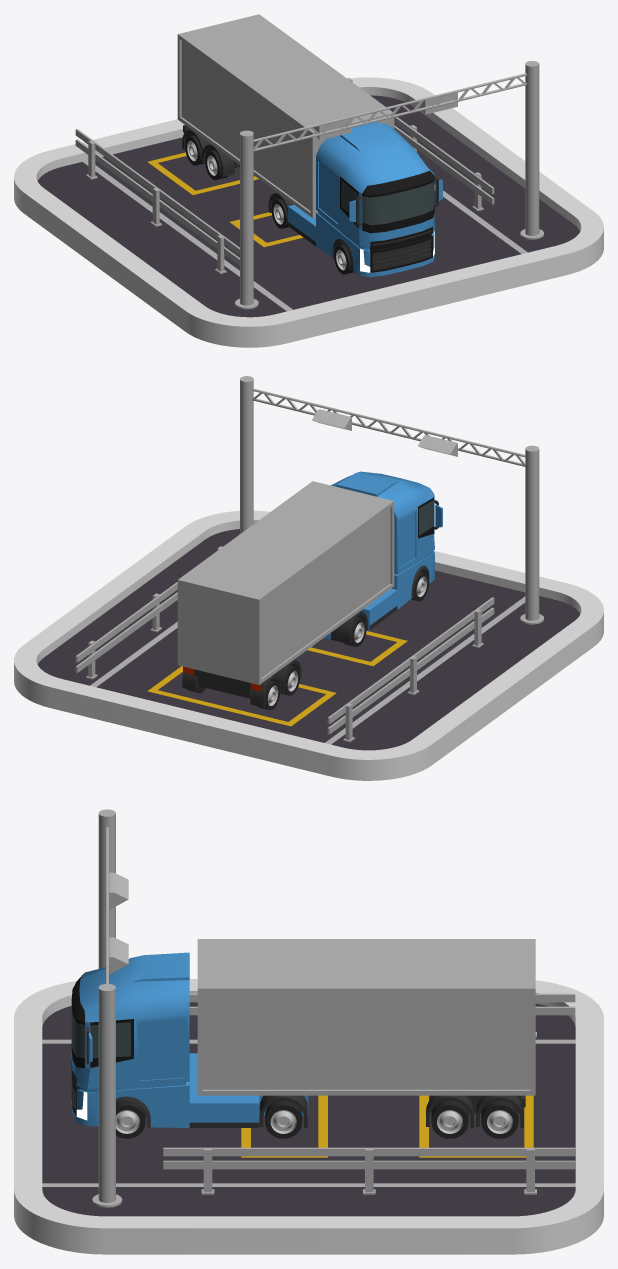
File: Весогабарит.gltf
3 views of the same model, one above another, from view 1: azimuth 30°, elevation 25°; view 2: azimuth 150°, elevation 25°; view 3: azimuth 270°, elevation 25° (orthographic). The views are drawn at different scales.
Parts seen in each view (by area): view 1: Cube.003; view 2: Cube.003; view 3: Cube.003.
Boxes of the visible parts, bbox=[...] form: Cube.003: bbox=[14, 14, 603, 347]; Cube.003: bbox=[14, 376, 603, 780]; Cube.003: bbox=[14, 809, 603, 1254].
Size of the model in its own units: 6.01 by 2.58 by 6.01.
